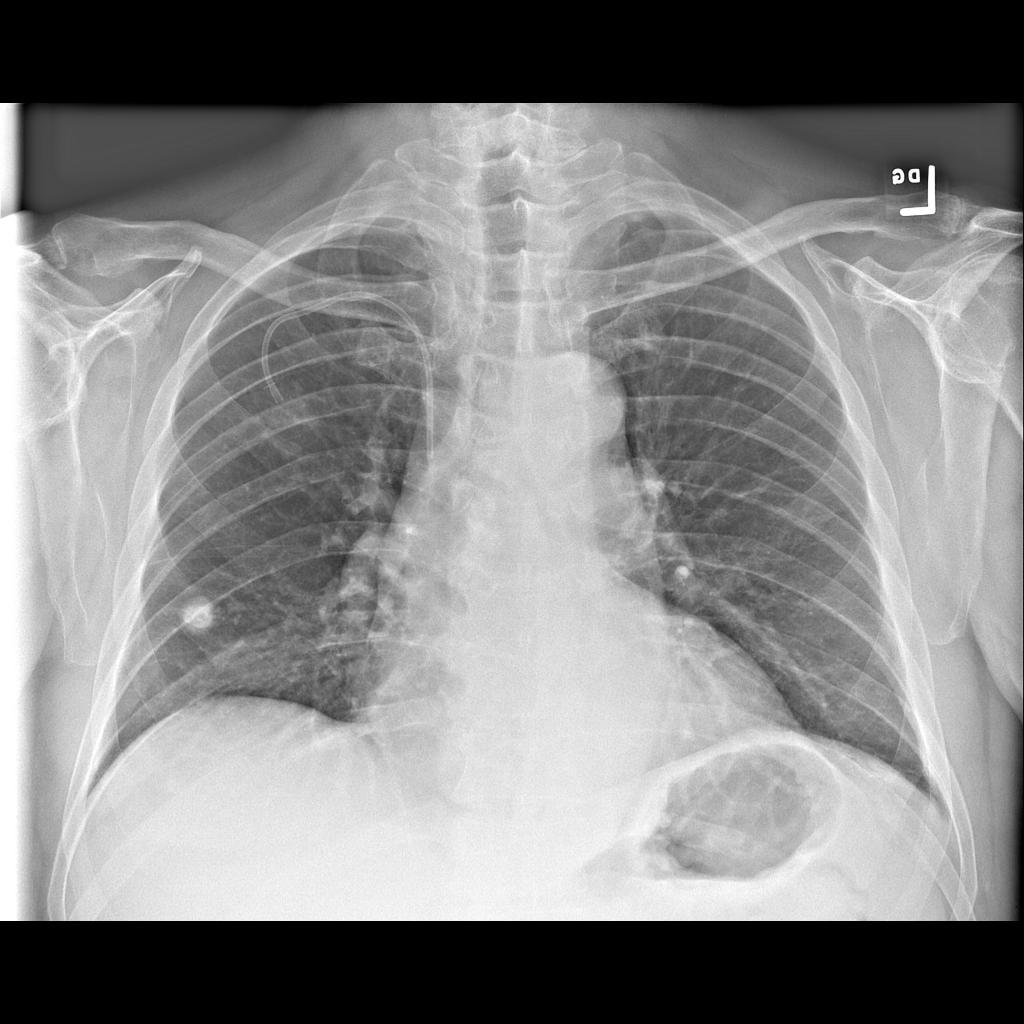Nodule: (181, 593, 232, 644)
